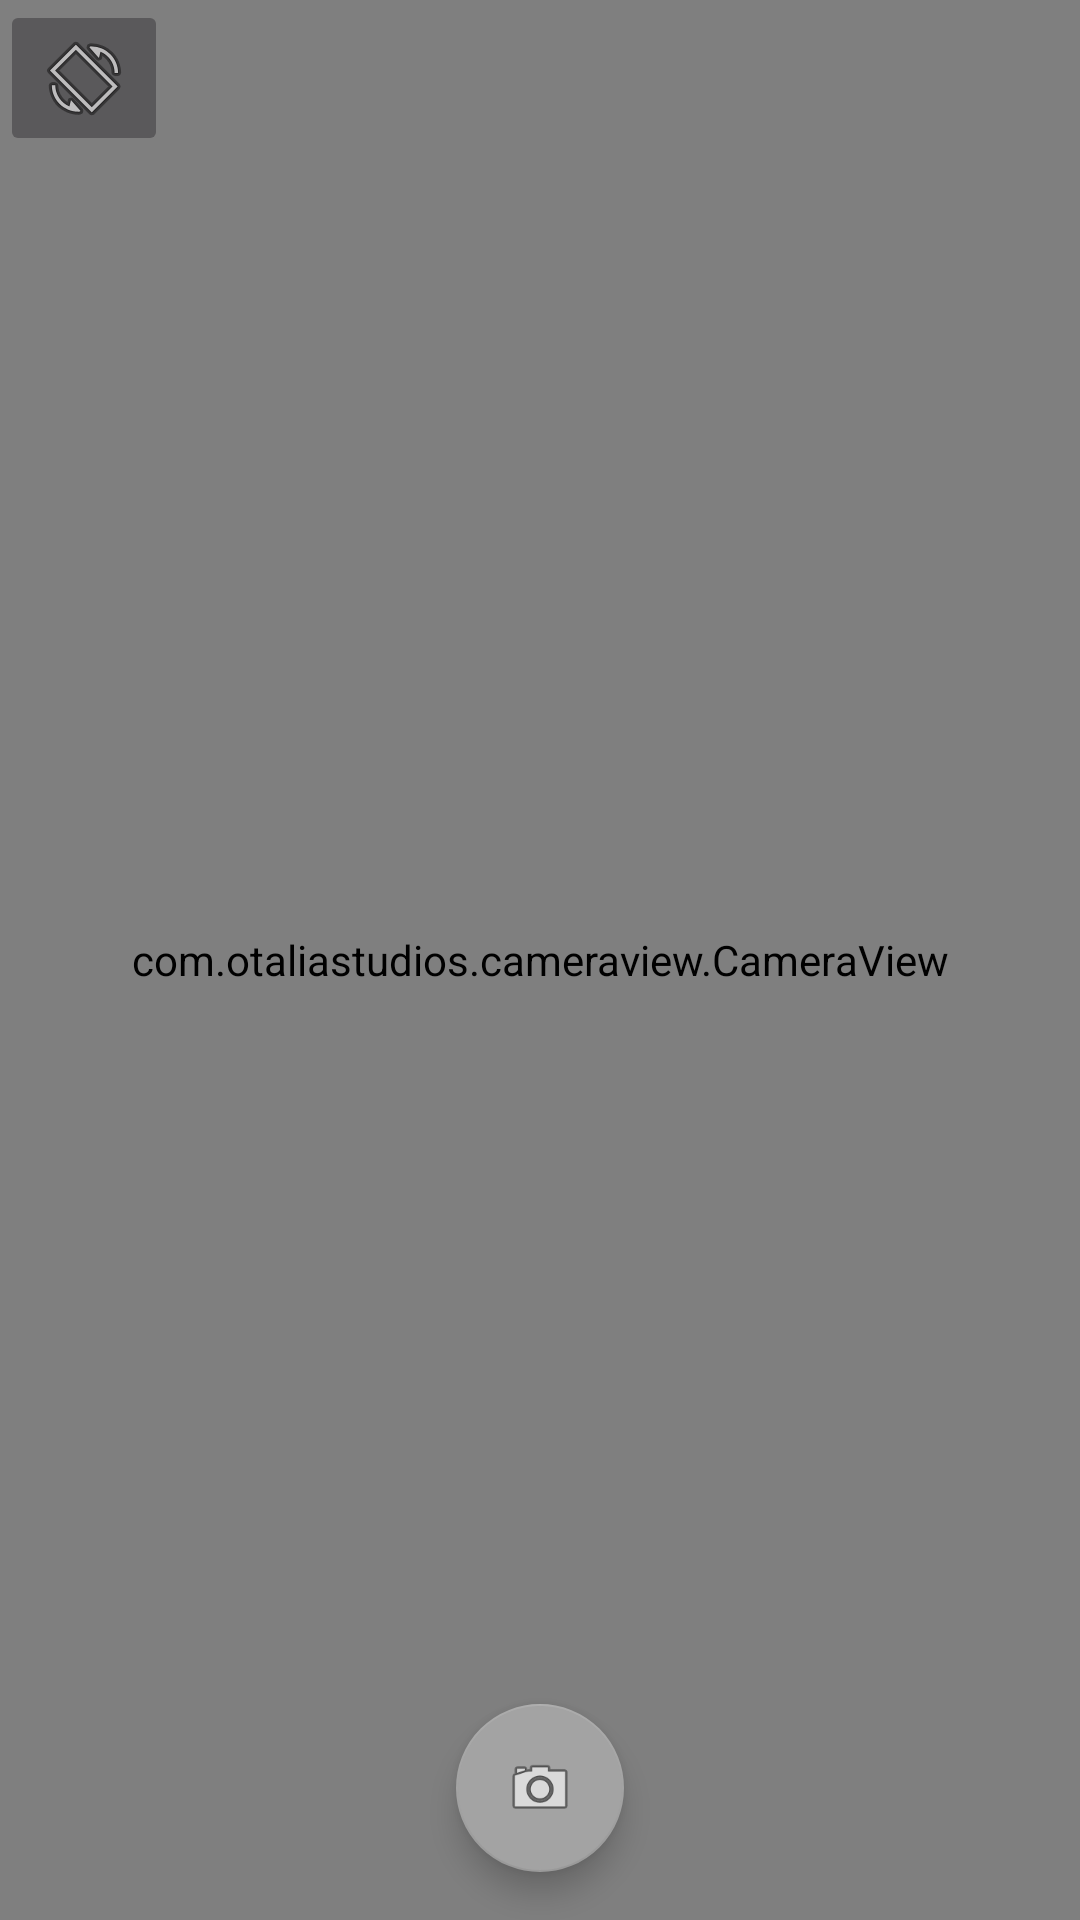

Icon click points for this 1080px x 1920px phone screenshot, format (x,y):
changes camera: (84,78)
